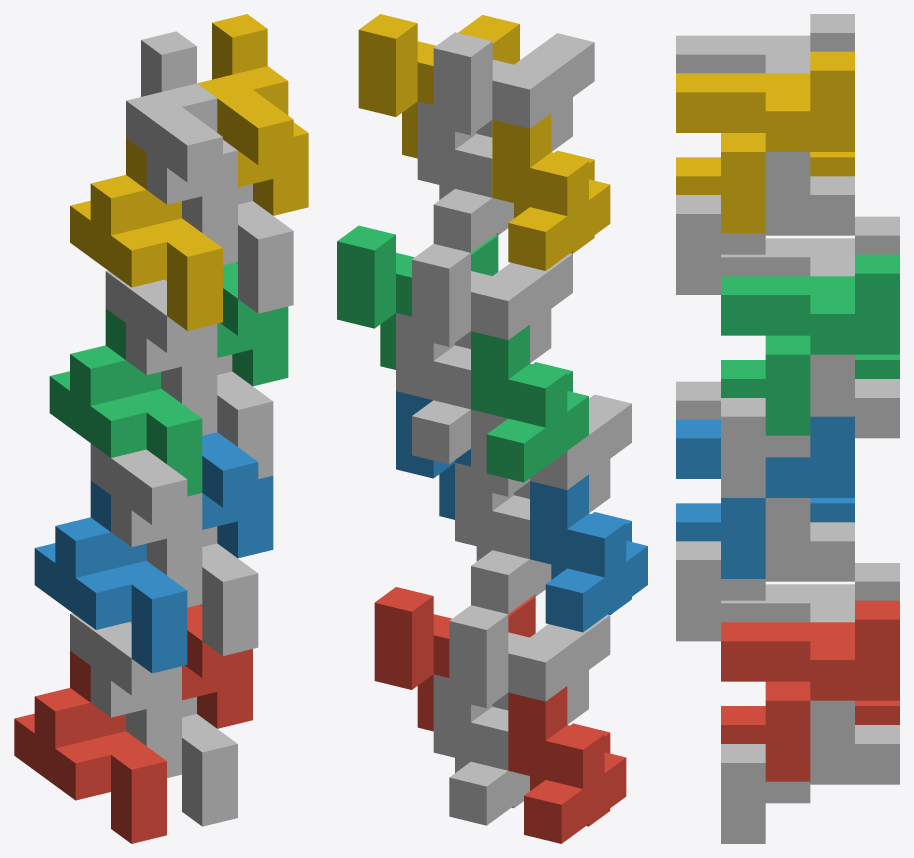
The model's file is tiling.obj.
3 renders of one model, left to right at view 1: azimuth 30°, elevation 25°; view 2: azimuth 150°, elevation 25°; view 3: azimuth 270°, elevation 25°, orthographic. The views are drawn at different scales.
Visible parts, largest first — view 1: copy_1_domain_2, copy_2_domain_4, copy_1_domain_1, copy_1_domain_4, copy_1_domain_3, copy_2_domain_8, copy_2_domain_2, copy_2_domain_3, copy_2_domain_1, copy_2_domain_6, copy_1_domain_6, copy_1_domain_8 (+4 smaller); view 2: copy_2_domain_4, copy_1_domain_4, copy_1_domain_1, copy_1_domain_2, copy_2_domain_1, copy_2_domain_3, copy_1_domain_3, copy_2_domain_8, copy_1_domain_8, copy_1_domain_5, copy_1_domain_6, copy_2_domain_5 (+4 smaller); view 3: copy_2_domain_5, copy_2_domain_7, copy_2_domain_8, copy_1_domain_5, copy_1_domain_6, copy_1_domain_8, copy_2_domain_6, copy_1_domain_7, copy_2_domain_4, copy_2_domain_3, copy_2_domain_1, copy_1_domain_2 (+4 smaller).
Boxes of the visible parts, box(x1,y1,x2,y2) form: copy_1_domain_2: box(34, 480, 187, 673); copy_2_domain_4: box(126, 31, 237, 232); copy_1_domain_1: box(14, 651, 166, 843); copy_1_domain_4: box(70, 138, 222, 330); copy_1_domain_3: box(49, 308, 202, 496); copy_2_domain_8: box(197, 14, 308, 215); copy_2_domain_2: box(90, 443, 202, 575); copy_2_domain_3: box(105, 270, 217, 403); copy_2_domain_1: box(70, 613, 181, 745); copy_2_domain_6: box(202, 432, 273, 558); copy_1_domain_6: box(167, 526, 258, 655); copy_1_domain_8: box(202, 184, 293, 313); copy_2_domain_4: box(433, 32, 594, 151); copy_1_domain_4: box(492, 113, 610, 270); copy_1_domain_1: box(508, 686, 626, 843); copy_1_domain_2: box(530, 474, 647, 632); copy_2_domain_1: box(449, 605, 610, 724); copy_2_domain_3: box(412, 243, 572, 363); copy_1_domain_3: box(471, 324, 588, 482); copy_2_domain_8: box(358, 14, 519, 158); copy_1_domain_8: box(417, 101, 513, 252); copy_1_domain_5: box(433, 674, 529, 825); copy_1_domain_6: box(455, 463, 551, 613); copy_2_domain_5: box(374, 587, 535, 731); copy_2_domain_5: box(721, 600, 899, 781); copy_2_domain_7: box(721, 254, 899, 435); copy_2_domain_8: box(676, 51, 854, 232); copy_1_domain_5: box(721, 700, 899, 843); copy_1_domain_6: box(676, 498, 854, 641); copy_1_domain_8: box(676, 152, 854, 294); copy_2_domain_6: box(676, 416, 854, 578); copy_1_domain_7: box(721, 354, 899, 497); copy_2_domain_4: box(676, 14, 854, 73); copy_2_domain_3: box(721, 216, 899, 276); copy_2_domain_1: box(721, 563, 899, 622); copy_1_domain_2: box(676, 498, 854, 541).
Size of the model in its own units: 6 by 20 by 5.
